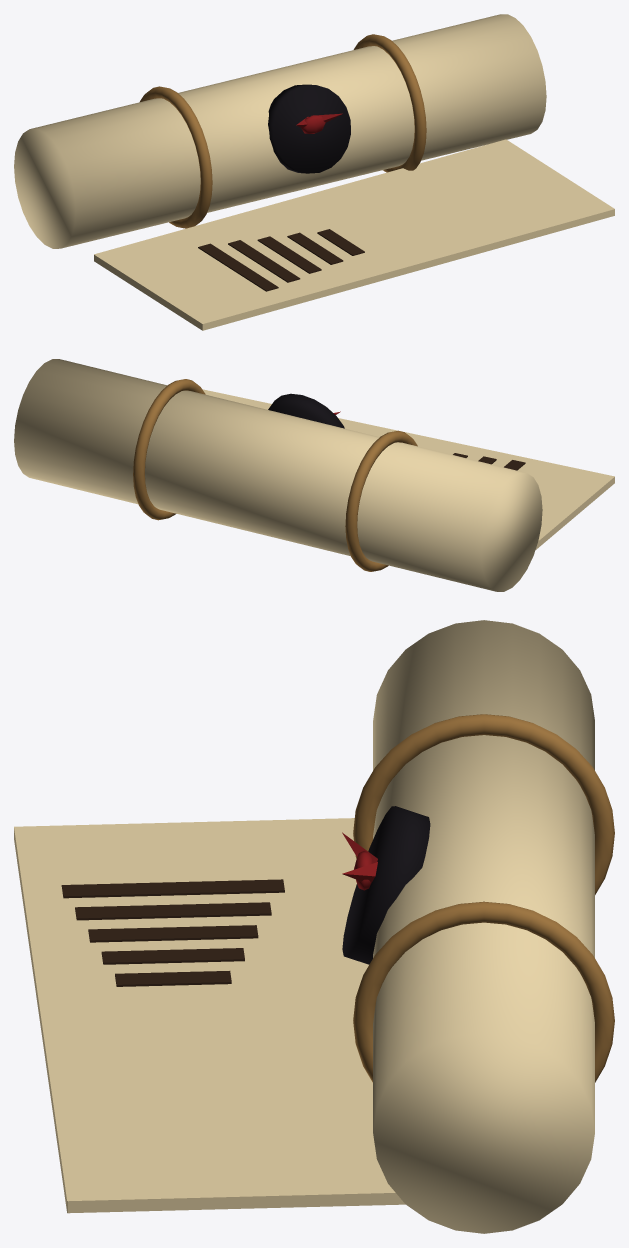
Rendered from rabenbrief.glb.
3 views of the same model, one above another, from view 1: azimuth 30°, elevation 25°; view 2: azimuth 150°, elevation 25°; view 3: azimuth 270°, elevation 25° (orthographic). The views are drawn at different scales.
Parts seen in each view (by area): view 1: Cone; view 2: Cone; view 3: Cone.
Boxes of the visible parts, x1,y1,x2,y2 form: Cone: (14,14,614,330); Cone: (14,359,614,591); Cone: (14,620,614,1233).
Size of the model in its own units: 0.22 by 0.059 by 0.1354.
